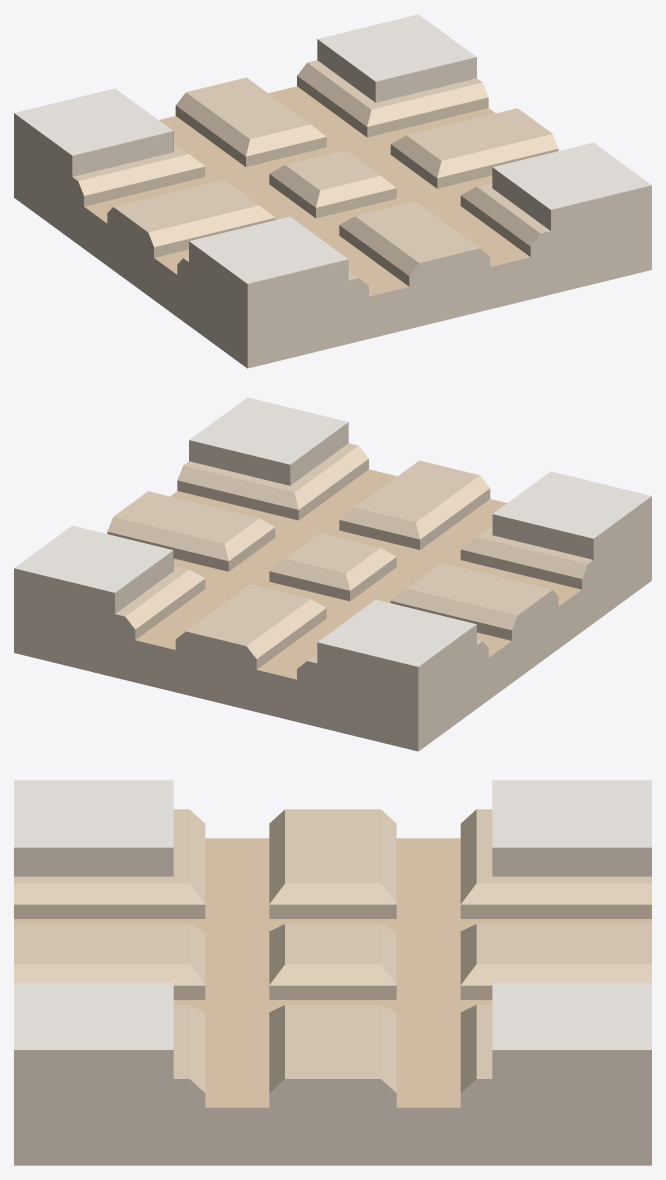
File: Puzzle_Track_Standard_Cross.glb
3 views of the same model, one above another, from view 1: azimuth 30°, elevation 25°; view 2: azimuth 150°, elevation 25°; view 3: azimuth 270°, elevation 25° (orthographic). The views are drawn at different scales.
Visible parts, largest first — view 1: Puzzle_Track_Standard_Cross; view 2: Puzzle_Track_Standard_Cross; view 3: Puzzle_Track_Standard_Cross.
Part boxes in pixels (x1,y1,x2,y2): Puzzle_Track_Standard_Cross: (14, 14, 651, 368); Puzzle_Track_Standard_Cross: (14, 397, 651, 751); Puzzle_Track_Standard_Cross: (14, 780, 651, 1165).
Size of the model in its own units: 1 by 0.2 by 1.
